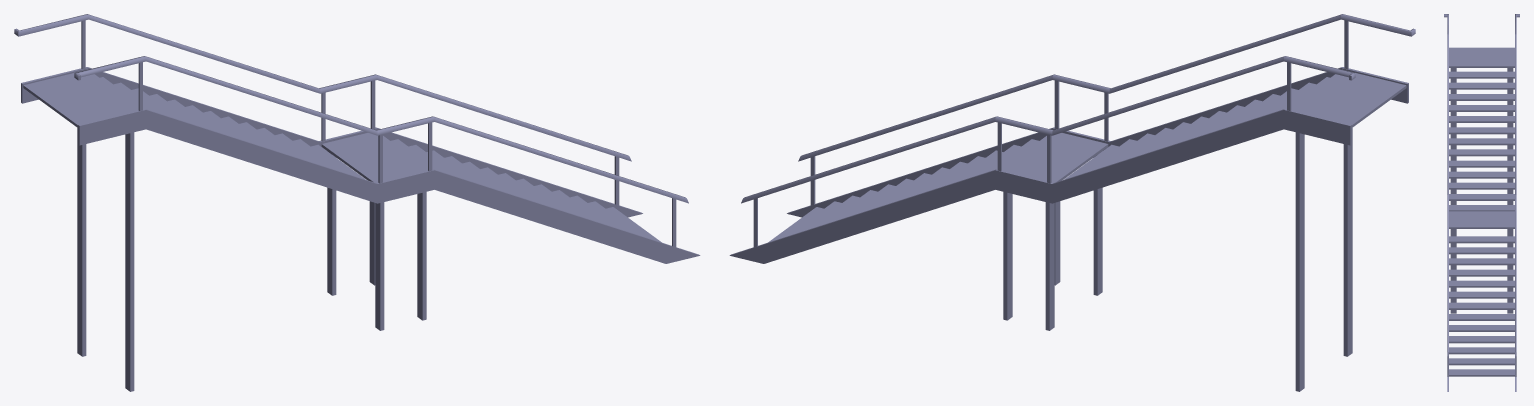
File: lestnica.fbx
3 renders of one model, left to right at view 1: azimuth 30°, elevation 25°; view 2: azimuth 150°, elevation 25°; view 3: azimuth 270°, elevation 25°, orthographic. The views are drawn at different scales.
Visible parts, largest first — view 1: lestnica.012; view 2: lestnica.012; view 3: lestnica.012.
Part boxes in pixels (x1,y1,x2,y2): lestnica.012: (14, 14, 700, 391); lestnica.012: (729, 14, 1415, 391); lestnica.012: (1444, 14, 1519, 391).
Bounding box in the file's own units: 805 × 411 × 143.
